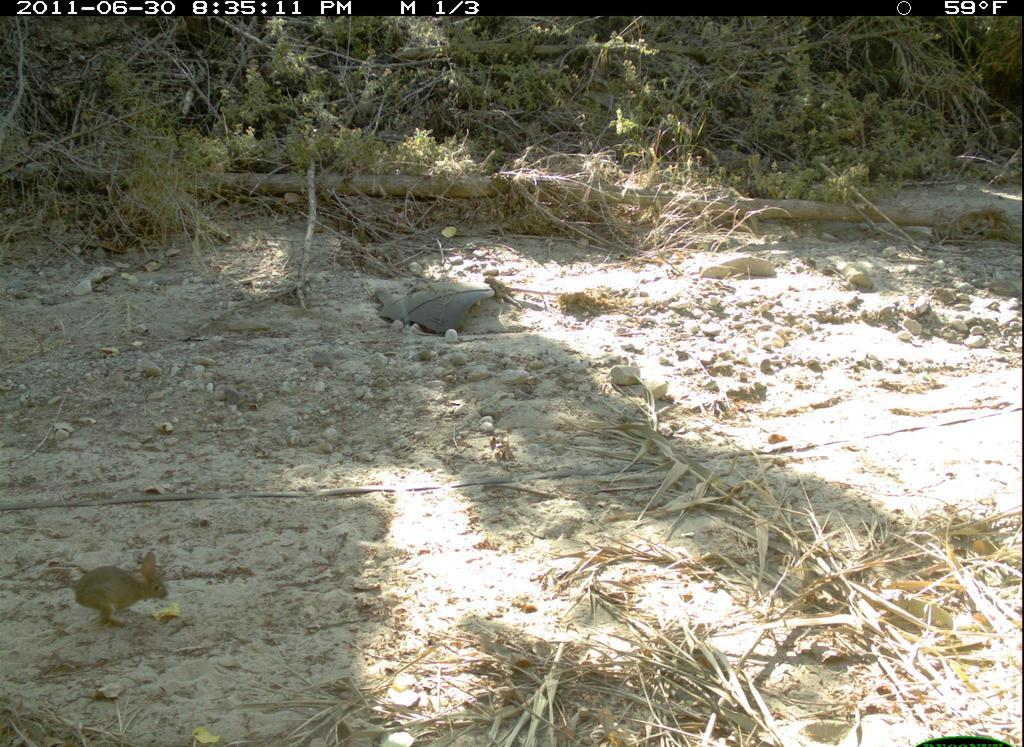rabbit: (58, 551, 195, 633)
